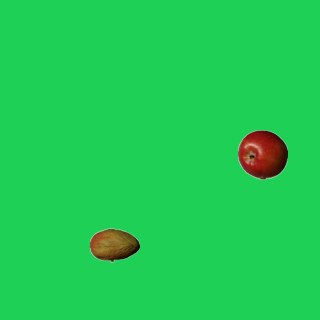Apple Braeburn: (237, 129, 287, 179)
Papaya: (89, 220, 139, 270)
